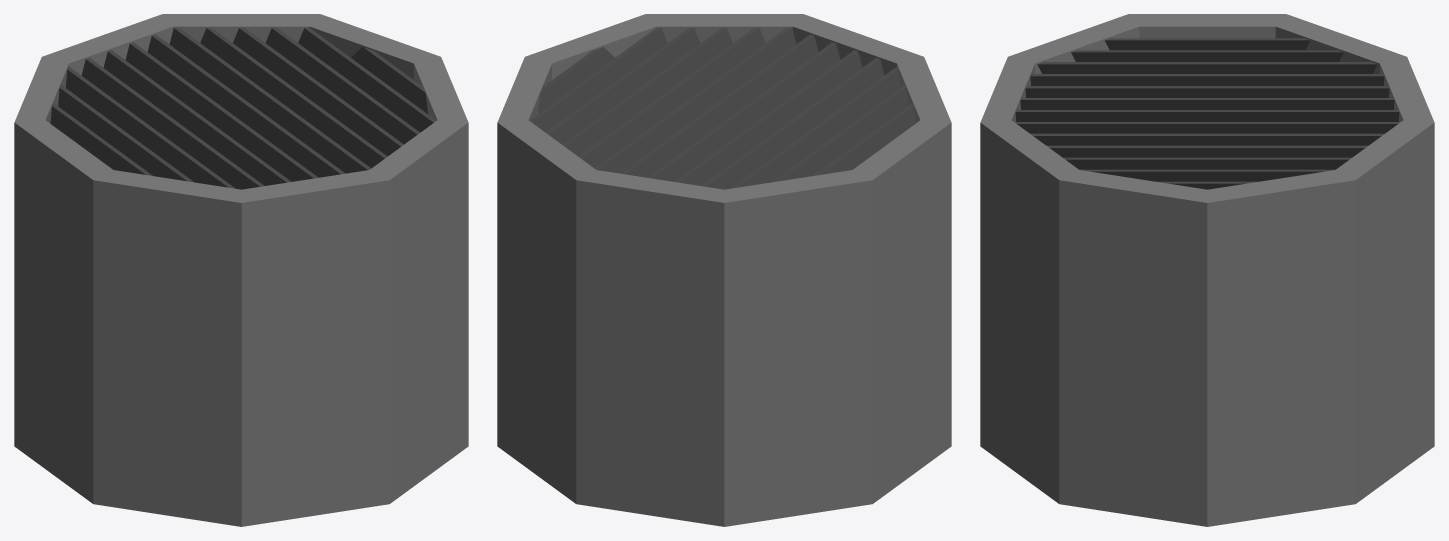
Rendered from Thermal Vent.fbx.
The picture shows the model from 3 angles, left to right: view 1: azimuth 30°, elevation 25°; view 2: azimuth 150°, elevation 25°; view 3: azimuth 270°, elevation 25°; orthographic projection.
Visible parts, largest first — view 1: Base; view 2: Base; view 3: Base.
Boxes of the visible parts, x1,y1,x2,y2 form: Base: (14, 14, 468, 526); Base: (497, 14, 951, 526); Base: (980, 14, 1434, 526).
Size of the model in its own units: 15.83 by 12.65 by 16.07.
